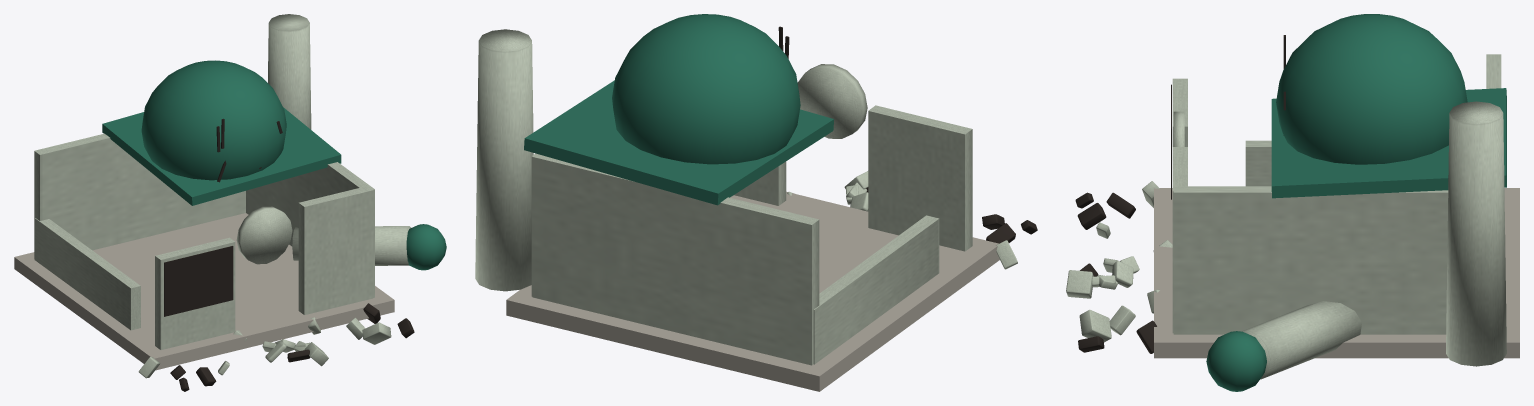
The model's file is prop_masjid_rusak.glb.
3 views of the same model, side by side, from view 1: azimuth 30°, elevation 25°; view 2: azimuth 150°, elevation 25°; view 3: azimuth 270°, elevation 25° (orthographic). The views are drawn at different scales.
Parts seen in each view (by area): view 1: masjid_rusak; view 2: masjid_rusak; view 3: masjid_rusak.
Boxes of the visible parts, x1=… form: masjid_rusak: x1=14, y1=14, x2=446, y2=391; masjid_rusak: x1=475, y1=14, x2=1037, y2=391; masjid_rusak: x1=1066, y1=14, x2=1519, y2=391.
Size of the model in its own units: 11.69 by 7.18 by 10.42.
4 materials, 1 textured.
